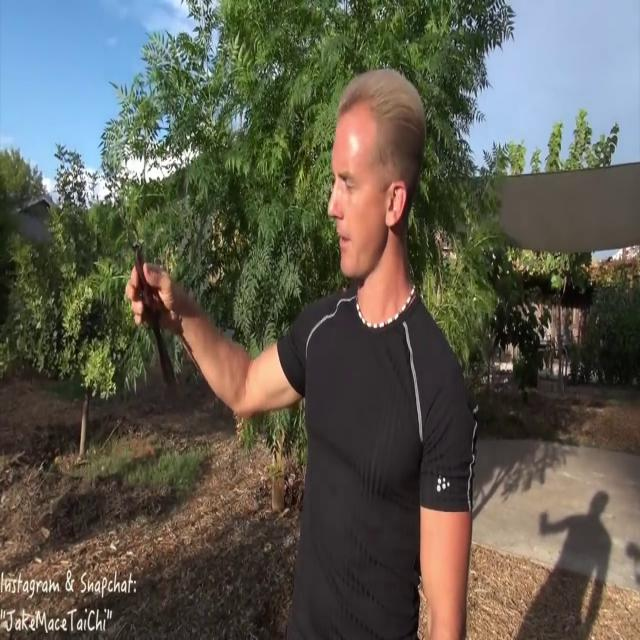knife: (120, 237, 185, 403)
